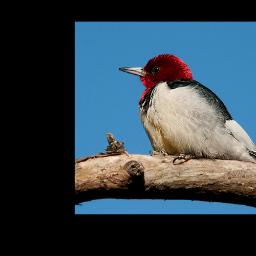Woodpecker: (119, 54, 256, 168)
